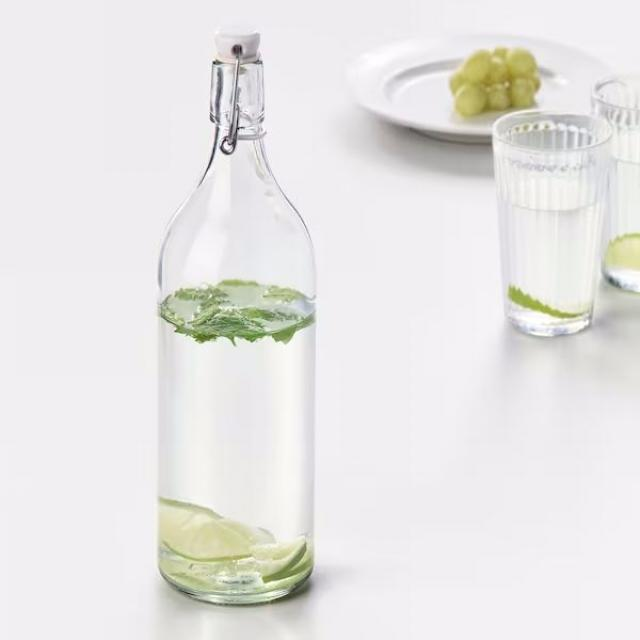glass-bottle: (145, 16, 331, 616)
